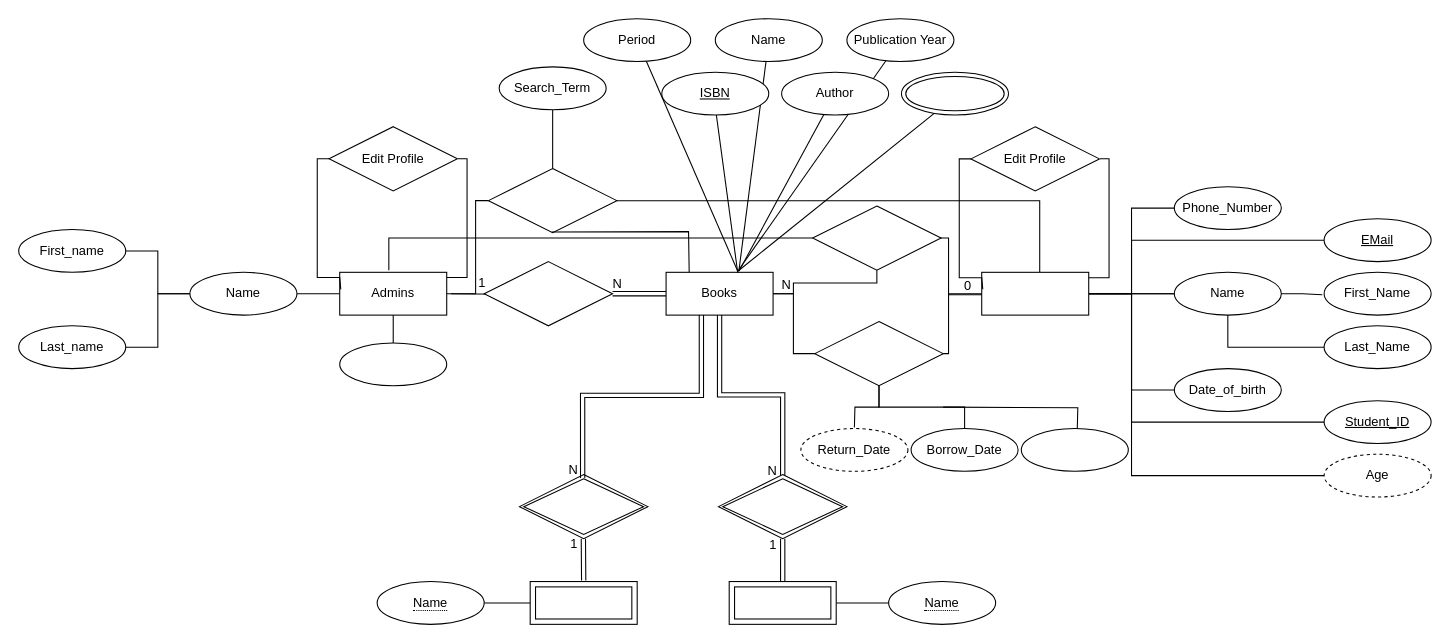
This 1450x643 diagram has some shape labels left out. The centre of each missing label's shape, as x and y in pixels:
Authors: the point at 782,602
Borrow: the point at 878,353
Browse: the point at 876,237
Genre: the point at 954,93
Manage Add / Edit: the point at 548,293
Publish: the point at 583,506
Publishers: the point at 583,602
Search: the point at 552,200
SSN: the point at 393,364
Students: the point at 1035,293
Transaction ID: the point at 1074,449
Write: the point at 782,506
